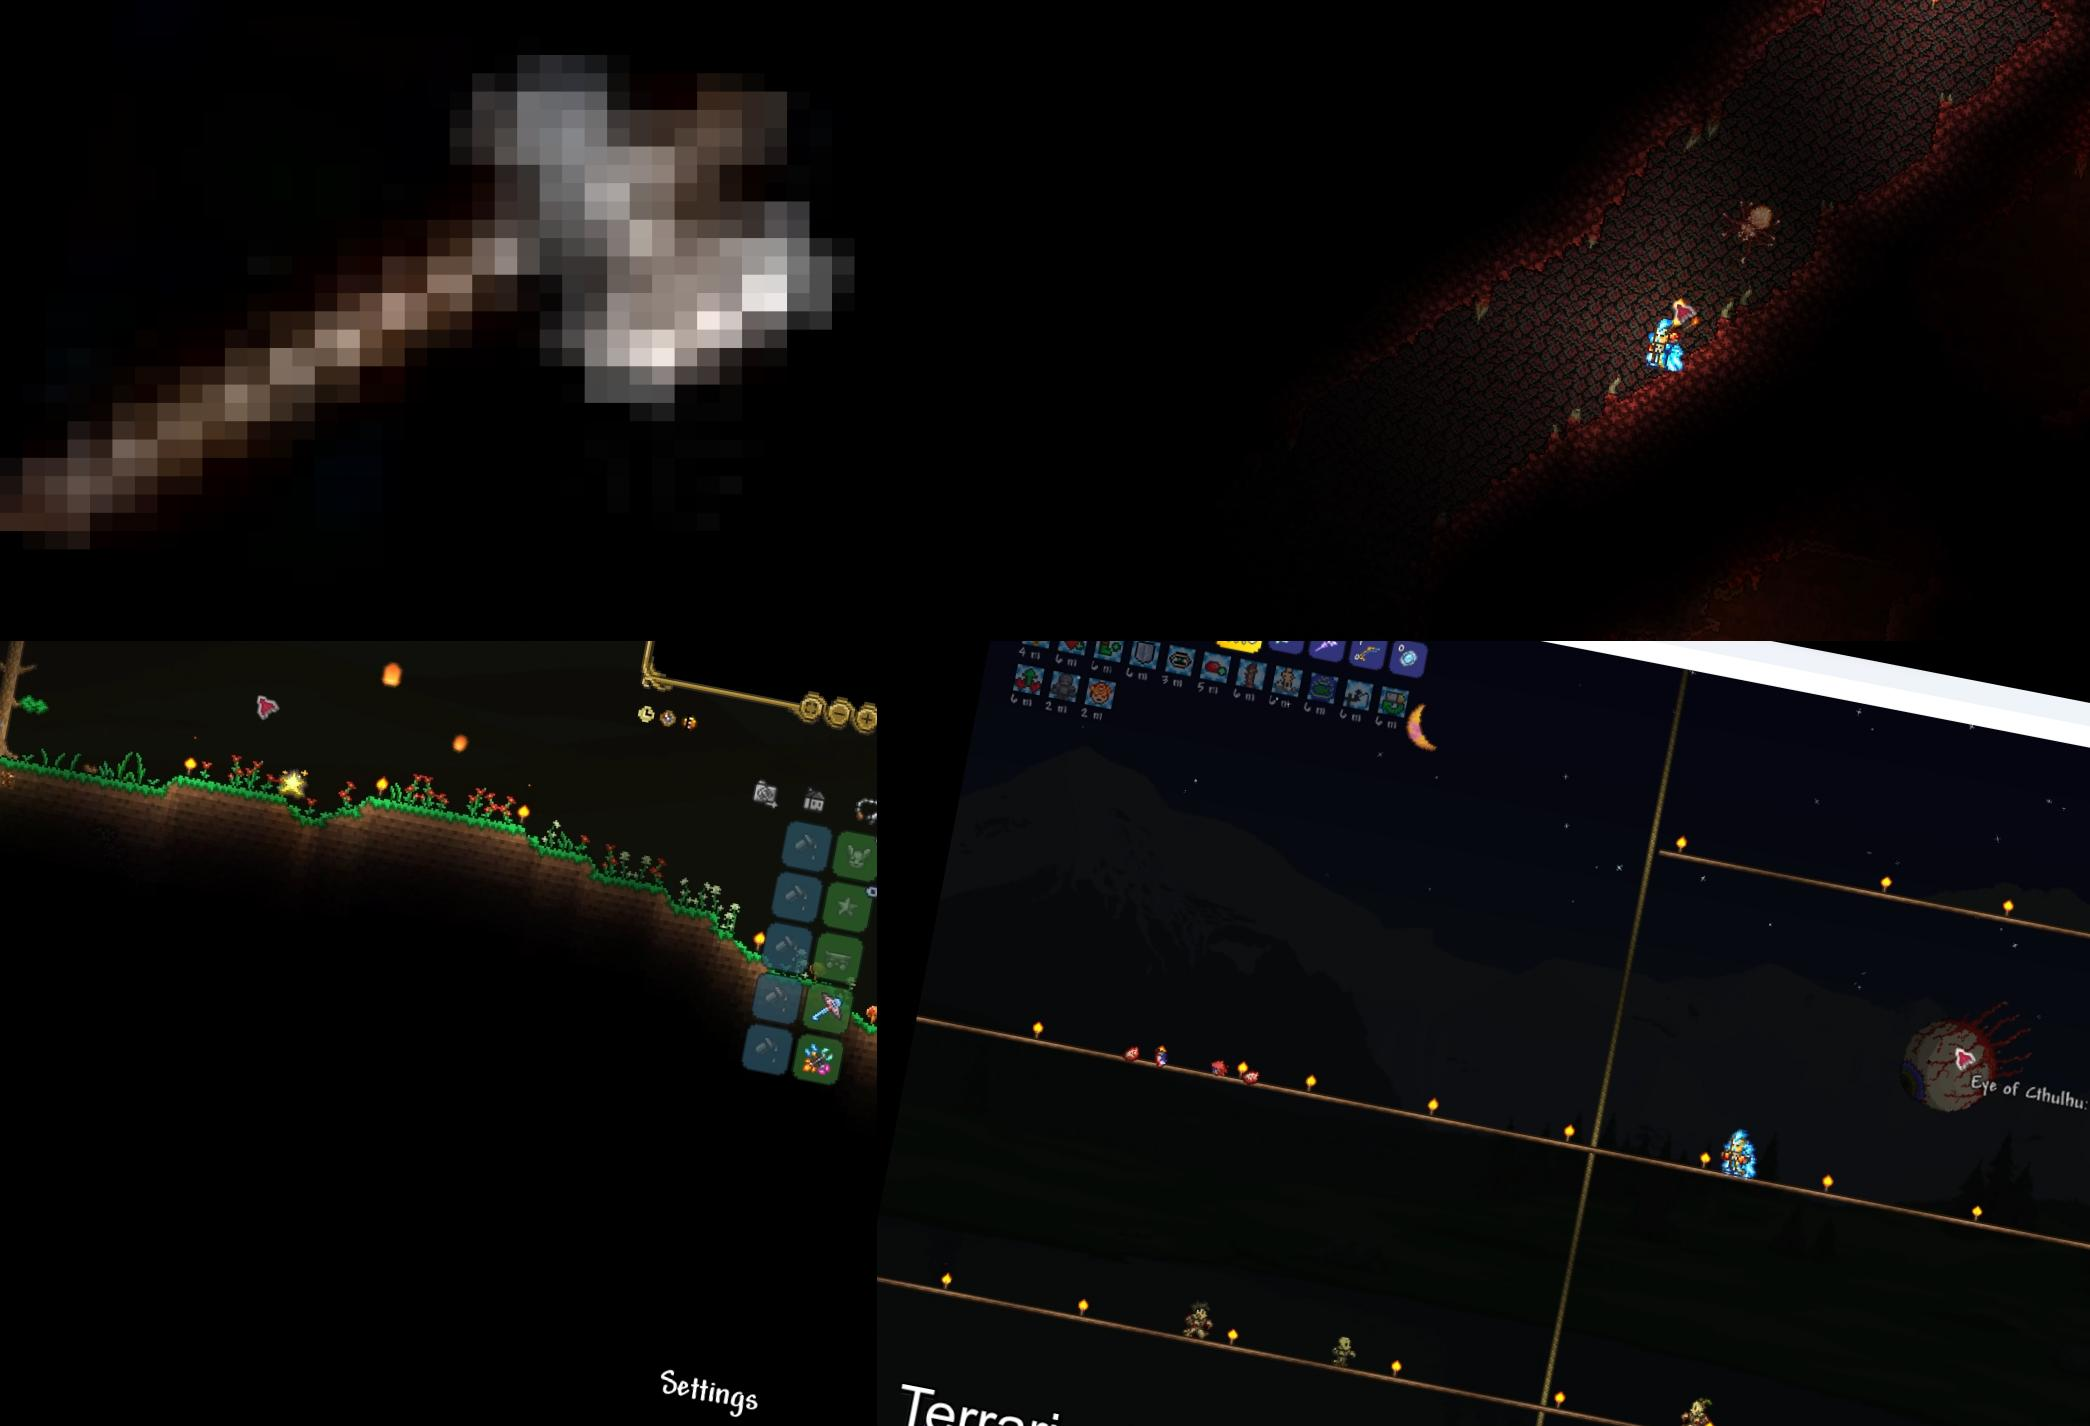axe: (0, 0, 877, 642)
eyeC: (1884, 975, 2047, 1127)
